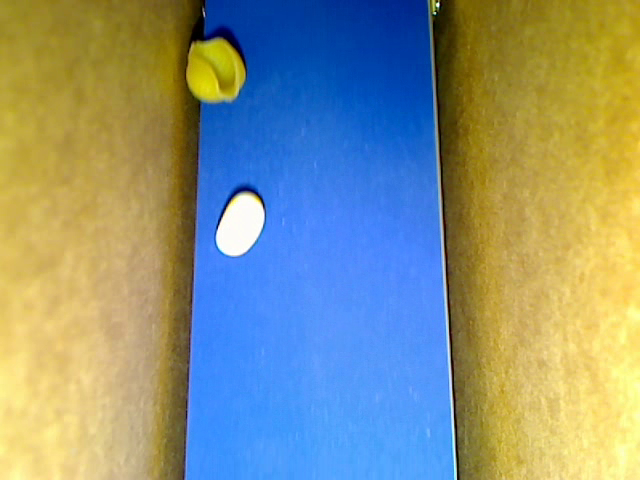shell: (185, 36, 245, 102)
